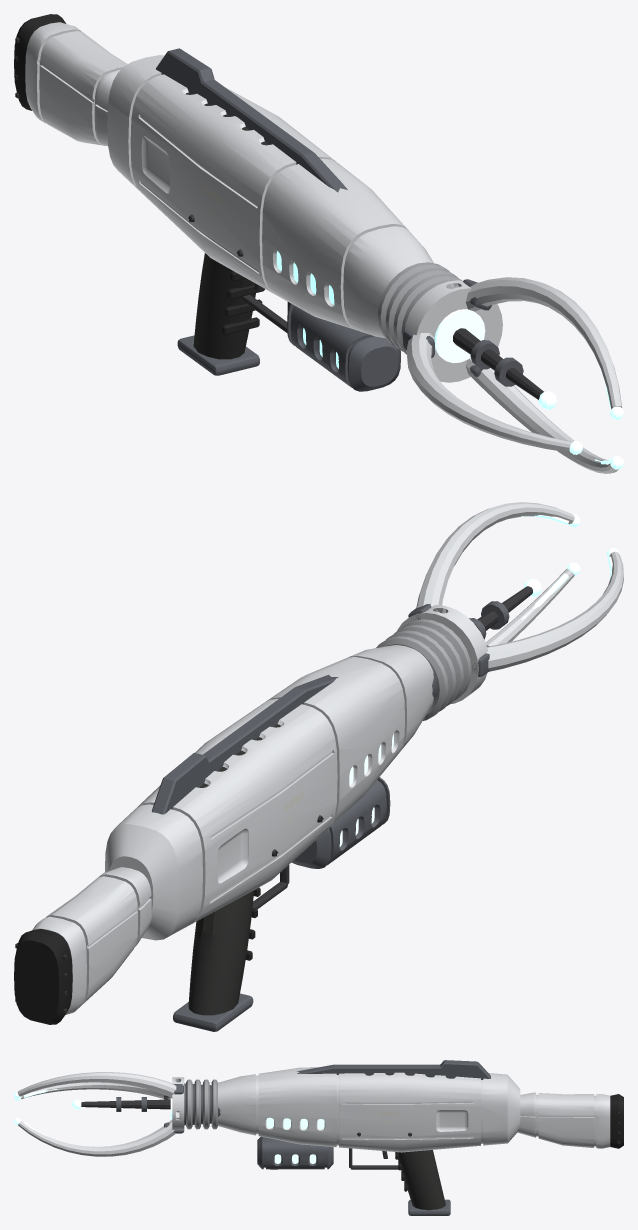
Rendered from rapier.glb.
3 views of the same model, one above another, from view 1: azimuth 30°, elevation 25°; view 2: azimuth 150°, elevation 25°; view 3: azimuth 270°, elevation 25° (orthographic). The views are drawn at different scales.
Visible parts, largest first — view 1: Body; view 2: Body; view 3: Body.
Boxes of the visible parts, <box> form: Body: <box>14,14,623,473</box>; Body: <box>14,502,623,1031</box>; Body: <box>14,1060,623,1215</box>.
Bounding box in the file's own units: 0.0961 × 0.1941 × 0.7185.
